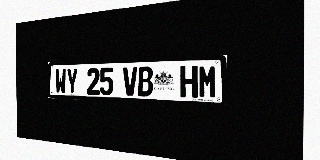2: (87, 68, 100, 95)
5: (100, 67, 113, 95)
B: (138, 66, 153, 96)
H: (180, 65, 198, 98)
M: (198, 65, 217, 98)
V: (123, 67, 137, 96)
W: (55, 69, 66, 94)
Y: (66, 68, 78, 94)
